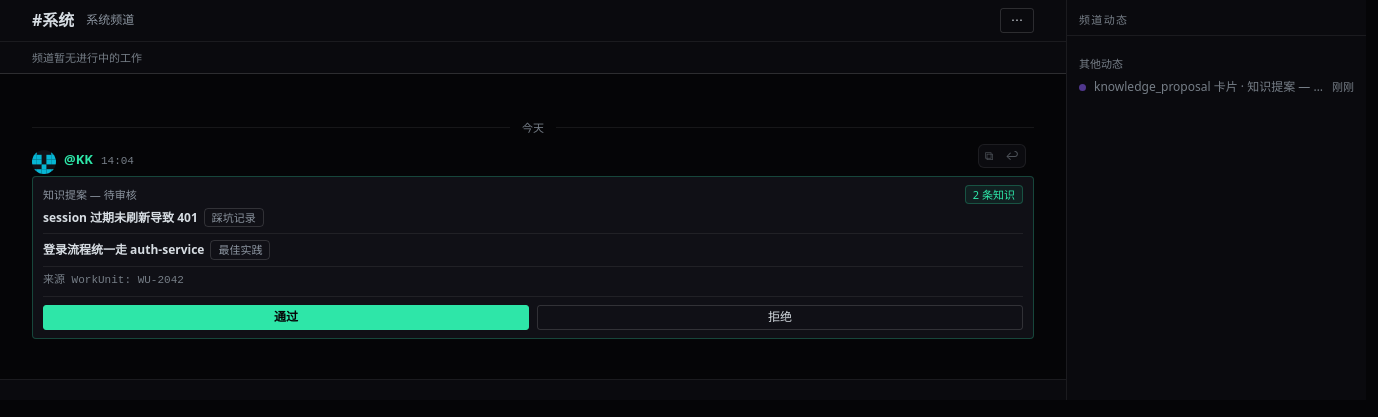
Scenario: ChannelDetailPage — knowledge_proposal 审核分发 › approve → 整卡一次 POST /review-proposals/knowledge/:proposalId/approve，卡片显示已审核
Click the button "通过" at (286, 318), box [43, 305, 529, 330]
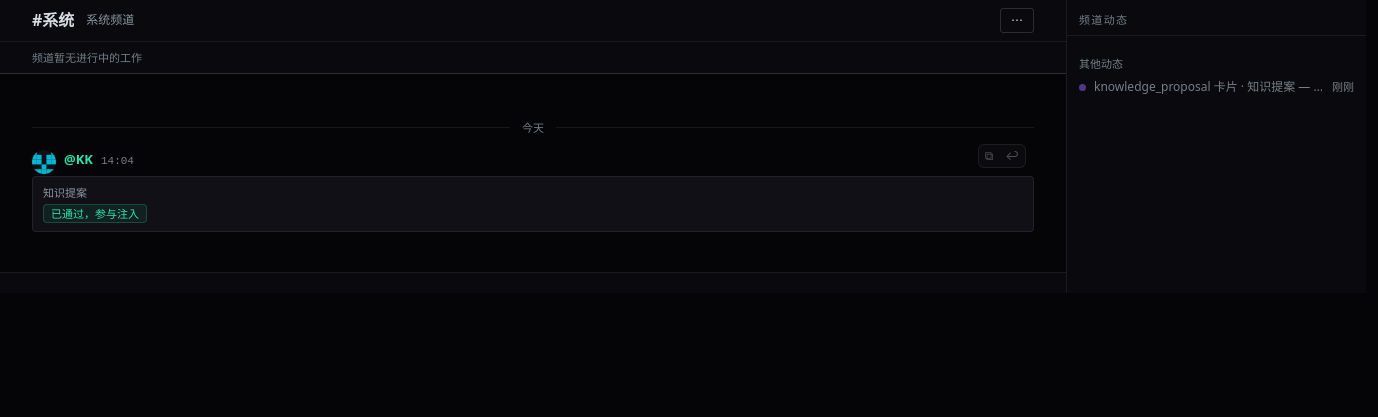
Expected: the text "已通过，参与注入" is shown, [43, 204, 147, 223]
